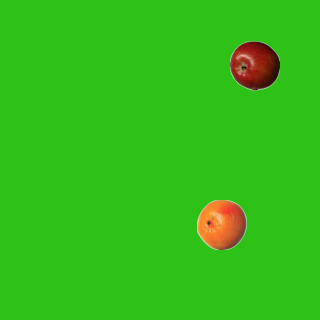Apple Braeburn: (229, 40, 279, 90)
Grapefruit Pink: (196, 199, 246, 249)
